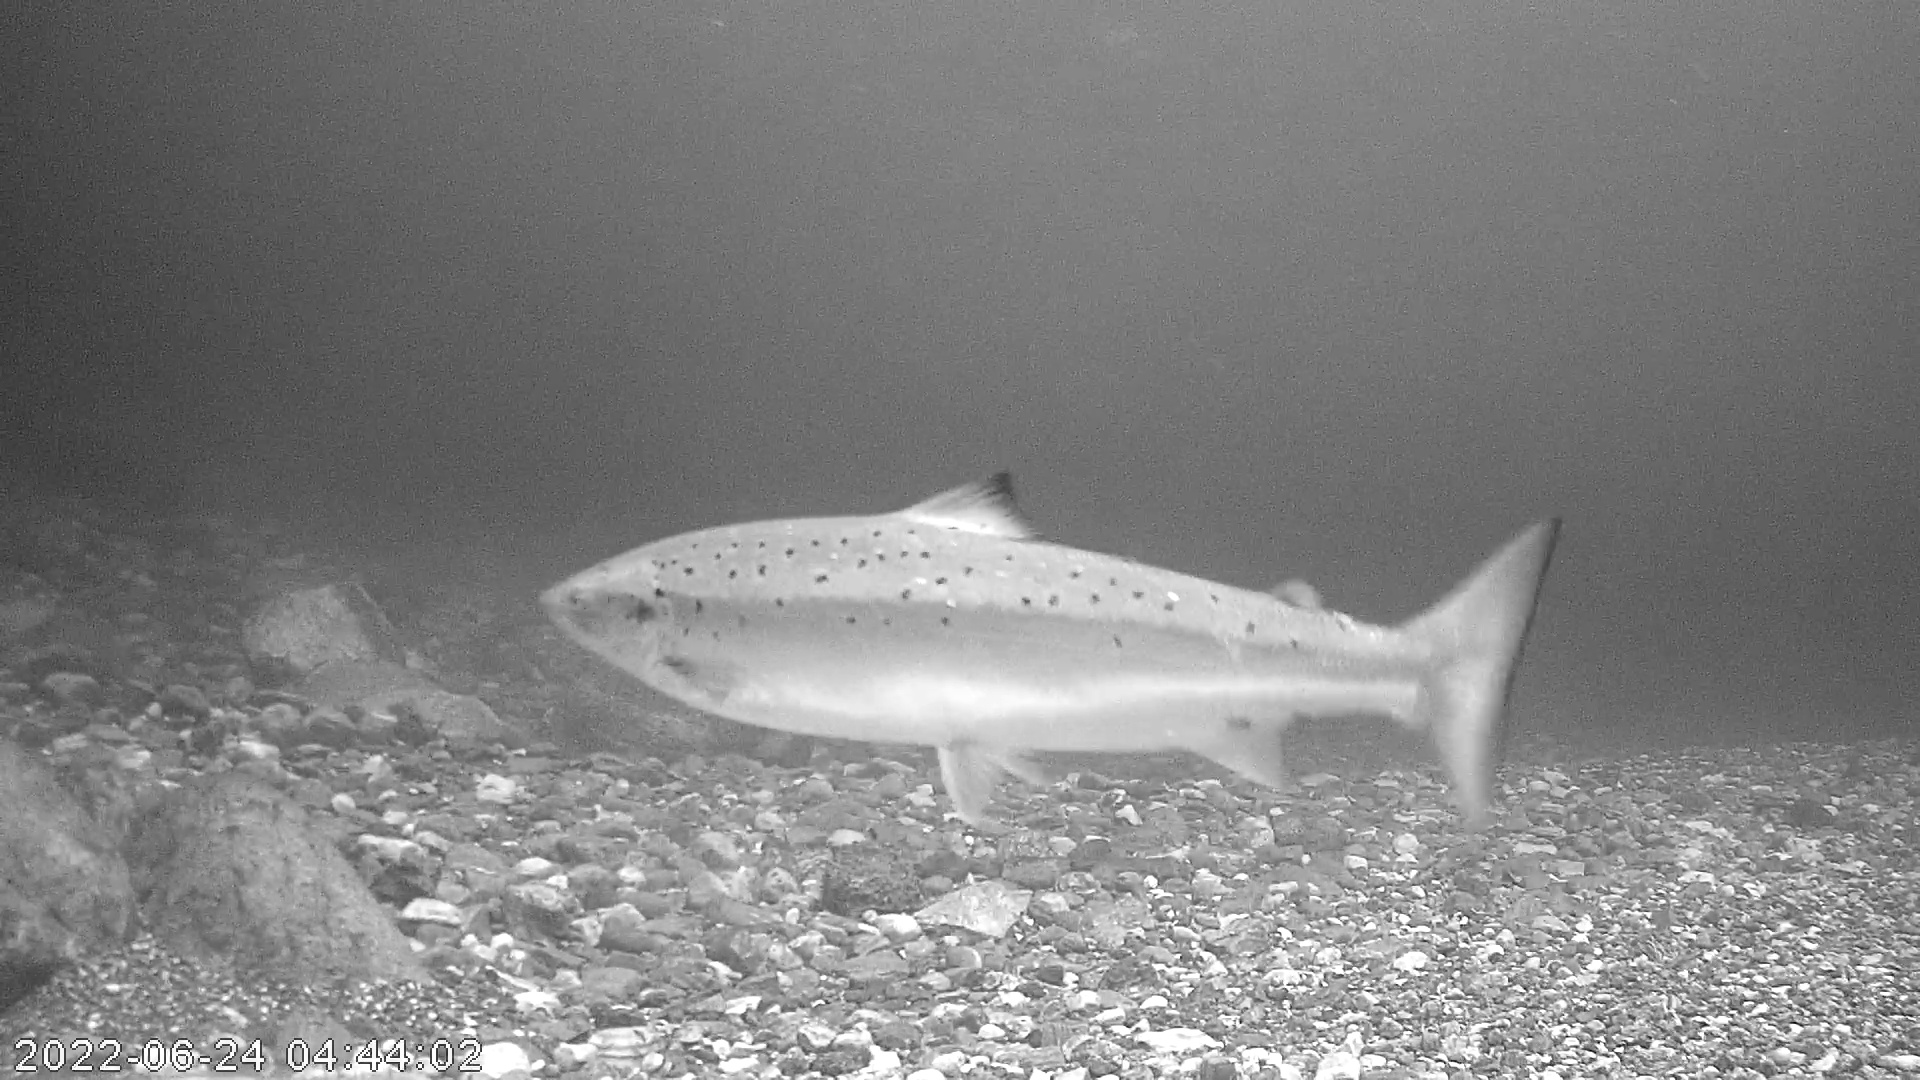salmon: (535, 465, 1563, 825)
